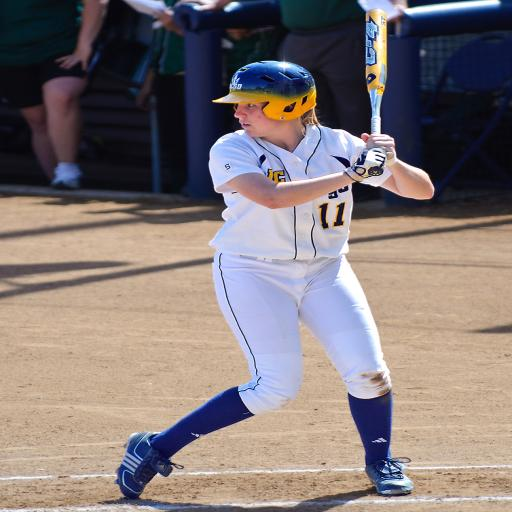Person: (138, 50, 394, 501)
boots: (322, 428, 392, 503), (148, 420, 201, 506)
gloves: (321, 140, 353, 186)
helmet: (223, 60, 311, 123)
none: (219, 128, 339, 268)
